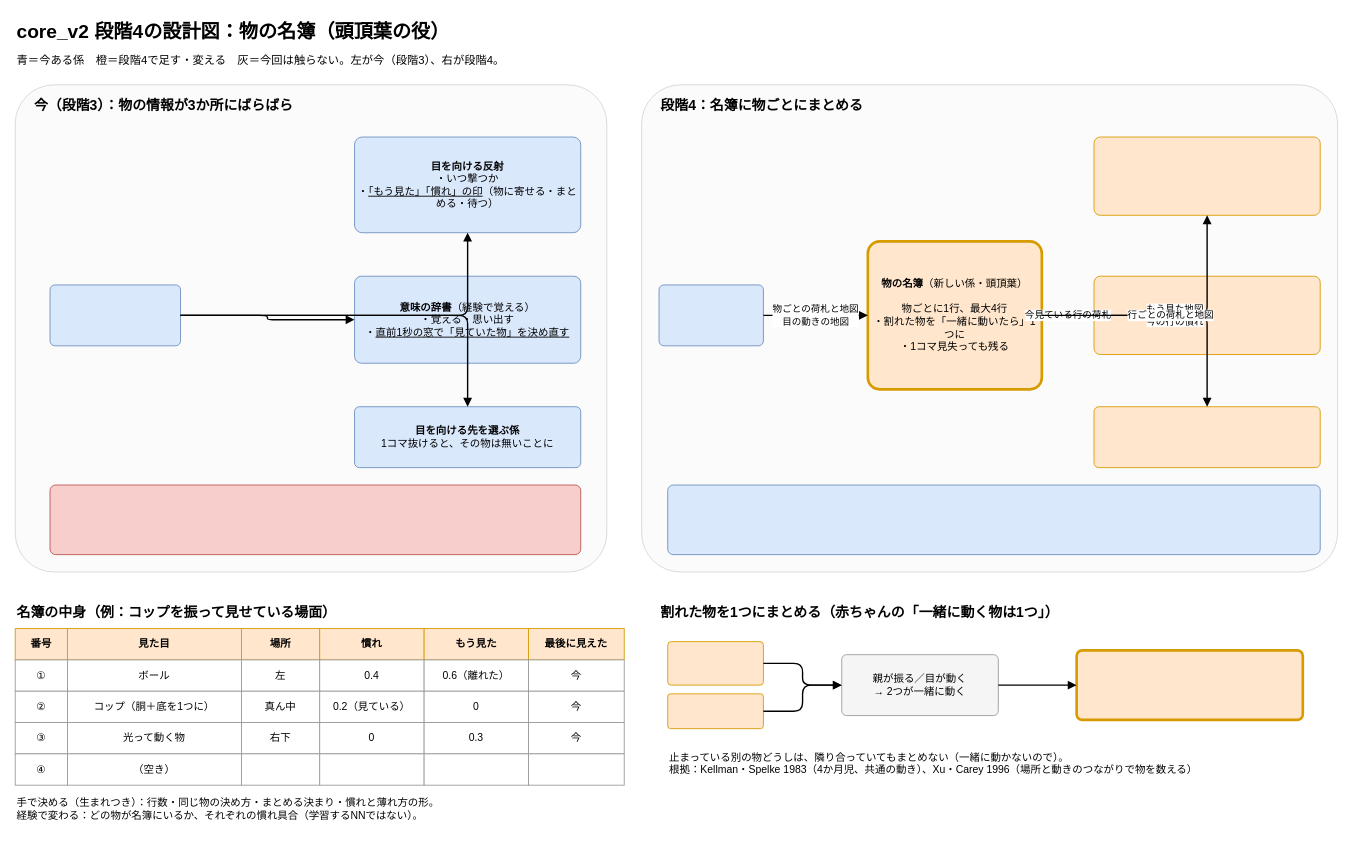
Image size: 1353x858. Some labels were removed from this diagram. Each missing label, with the centre of its shape:
コップが「胴」と「底の線」に割れると、3か所がそれぞれ別の物として扱う → 印と名前がずれる → 数字を足して合わせた（継ぎはぎ）: the point at 315,519
意味の辞書 「覚える・思い出す」だけに戻る: the point at 1206,315
書式は今の4種類のまま（荷札・地図・数字1つ）。脳の構造図は41係 → 42係（目の入口と注意の係の間に「物の名簿」）: the point at 993,519
目の入口 物を毎回その場で拾う: the point at 115,315
目の入口 （変えない）: the point at 710,315
目を向ける先を選ぶ係 名簿の行を見る: the point at 1206,437
目を向ける反射 「いつ撃つか」だけに戻る: the point at 1206,175
行② コップ （見た目は2つの平均、名前もここで1回ずつ覚える）: the point at 1189,685
行② 胴: the point at 715,663
行④ 底の線: the point at 715,711
